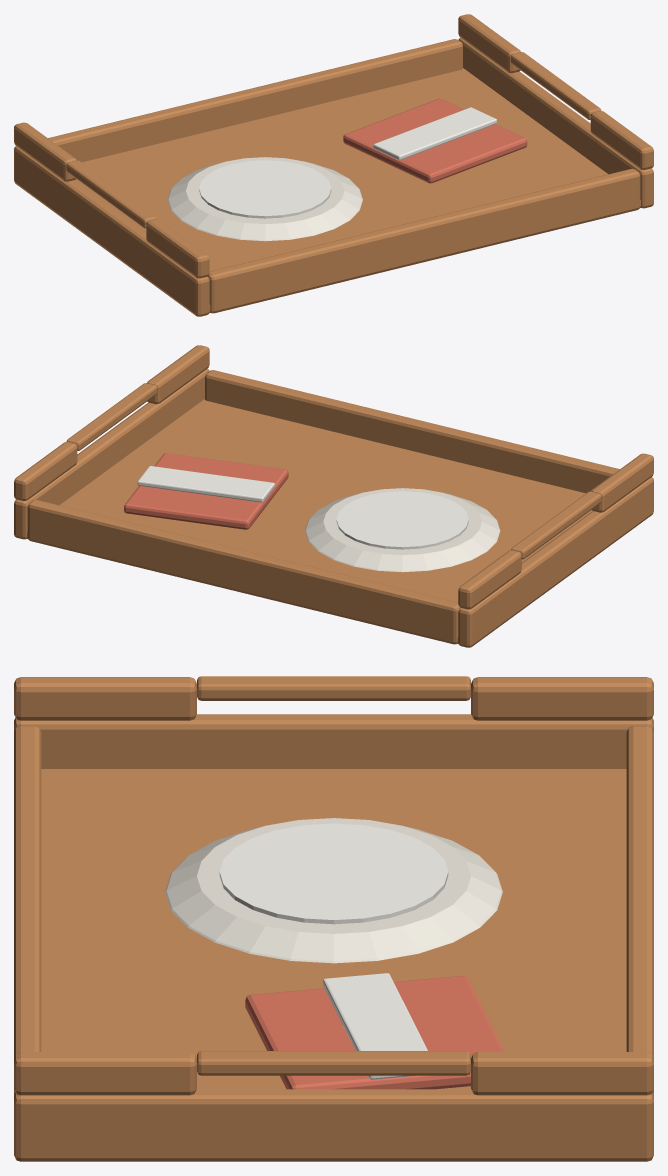
File: hh_cat_tray.glb
The picture shows the model from 3 angles, top to bottom: view 1: azimuth 30°, elevation 25°; view 2: azimuth 150°, elevation 25°; view 3: azimuth 270°, elevation 25°; orthographic projection. The views are drawn at different scales.
Visible parts, largest first — view 1: base, rim, rim.001, end, plate, napkin, plate_well, end.003, napkin_band, end.001, end.004, end.005 (+3 smaller); view 2: base, rim.001, rim, end, plate, plate_well, napkin, end.003, napkin_band, end.002, end.005, end.004 (+3 smaller); view 3: base, end.003, end, plate, plate_well, napkin, rim, rim.001, end.004, end.005, end.001, end.002 (+3 smaller).
Part boxes in pixels (box(x1,y1,x2,y2)): base: box(75, 68, 640, 313); rim: box(207, 168, 640, 313); rim.001: box(48, 39, 462, 162); end: box(14, 146, 209, 316); plate: box(167, 157, 362, 241); napkin: box(343, 98, 527, 183); plate_well: box(199, 160, 331, 218); end.003: box(458, 37, 653, 208); napkin_band: box(373, 107, 496, 160); end.001: box(146, 219, 209, 278); end.004: box(590, 111, 653, 169); end.005: box(458, 14, 520, 73); base: box(27, 399, 592, 644); rim.001: box(27, 499, 460, 644); rim: box(205, 370, 619, 493); end: box(458, 477, 653, 647); plate: box(305, 488, 500, 572); plate_well: box(336, 491, 468, 549); napkin: box(124, 453, 288, 529); end.003: box(14, 368, 209, 539); napkin_band: box(137, 466, 274, 502); end.002: box(458, 550, 521, 609); end.005: box(14, 442, 77, 500); end.004: box(147, 345, 209, 404); base: box(41, 769, 626, 1089); end.003: box(14, 1089, 653, 1161); end: box(14, 714, 653, 768); plate: box(165, 818, 502, 963); plate_well: box(219, 823, 448, 924); napkin: box(245, 976, 504, 1089); rim: box(14, 726, 41, 1094); rim.001: box(626, 726, 653, 1094); end.004: box(14, 1052, 196, 1095); end.005: box(471, 1052, 653, 1095); end.001: box(14, 677, 196, 720); end.002: box(471, 677, 653, 720).
Size of the model in its own units: 0.4 by 0.05 by 0.28.
